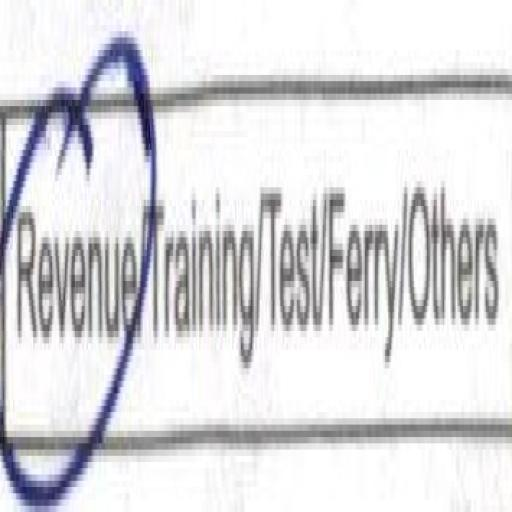check: (0, 25, 147, 506)
